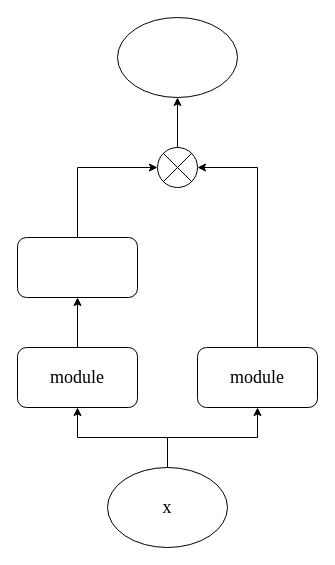
This 335x565 diagram has some shape labels left out. The centre of each missing label's shape, as x and y in pixels:
"out" belongs at point (177, 57).
"sigmoid" belongs at point (77, 267).
